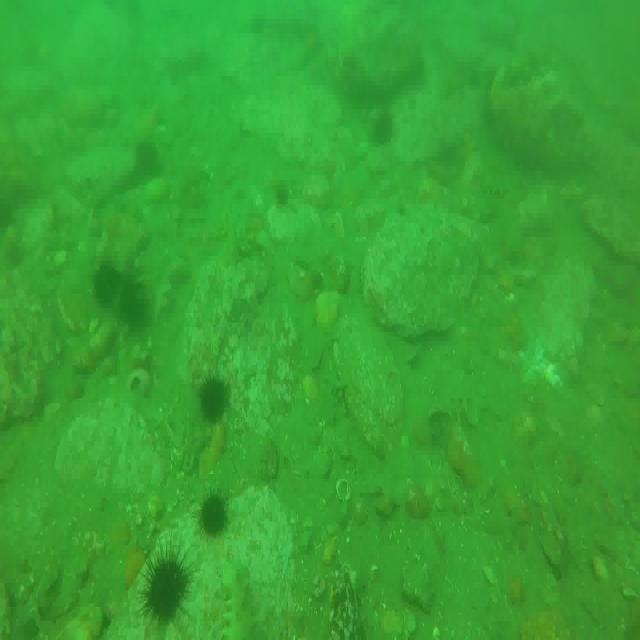echinus: (144, 544, 189, 620), (118, 276, 149, 328), (201, 371, 231, 424), (202, 486, 228, 537), (94, 262, 121, 310), (138, 143, 160, 184), (376, 106, 397, 146), (273, 182, 291, 208)
scallop: (336, 476, 352, 505)
